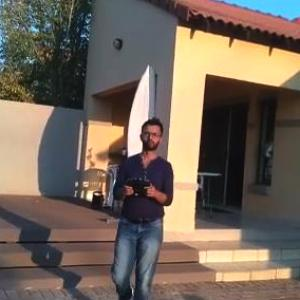follow: (108, 112, 177, 299)
